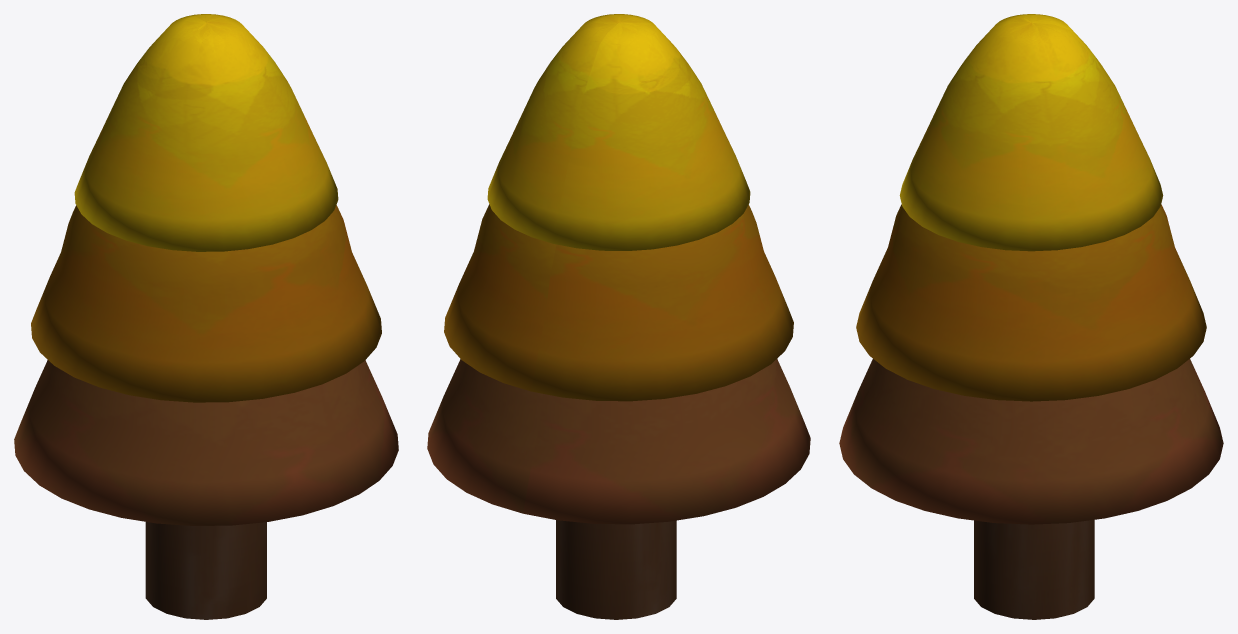
Rendered from tree3.FBX.
The picture shows the model from 3 angles, left to right: view 1: azimuth 30°, elevation 25°; view 2: azimuth 150°, elevation 25°; view 3: azimuth 270°, elevation 25°; orthographic projection.
Visible parts, largest first — view 1: Sphere003, Sphere001, Sphere004, Cylinder001; view 2: Sphere003, Sphere001, Sphere004, Cylinder001; view 3: Sphere003, Sphere001, Sphere004, Cylinder001.
Part boxes in pixels (<box>): Sphere003: <box>31,205,381,402</box>; Sphere001: <box>14,359,398,525</box>; Sphere004: <box>74,14,338,251</box>; Cylinder001: <box>145,522,266,619</box>; Sphere003: <box>444,204,793,401</box>; Sphere001: <box>427,358,810,524</box>; Sphere004: <box>487,14,750,250</box>; Cylinder001: <box>556,520,676,619</box>; Sphere003: <box>856,204,1206,401</box>; Sphere001: <box>839,359,1223,524</box>; Sphere004: <box>899,14,1163,251</box>; Cylinder001: <box>974,520,1094,619</box>.
Size of the model in its own units: 13.77 by 22.57 by 13.77.
Materials: 2 (2 with a texture image).
